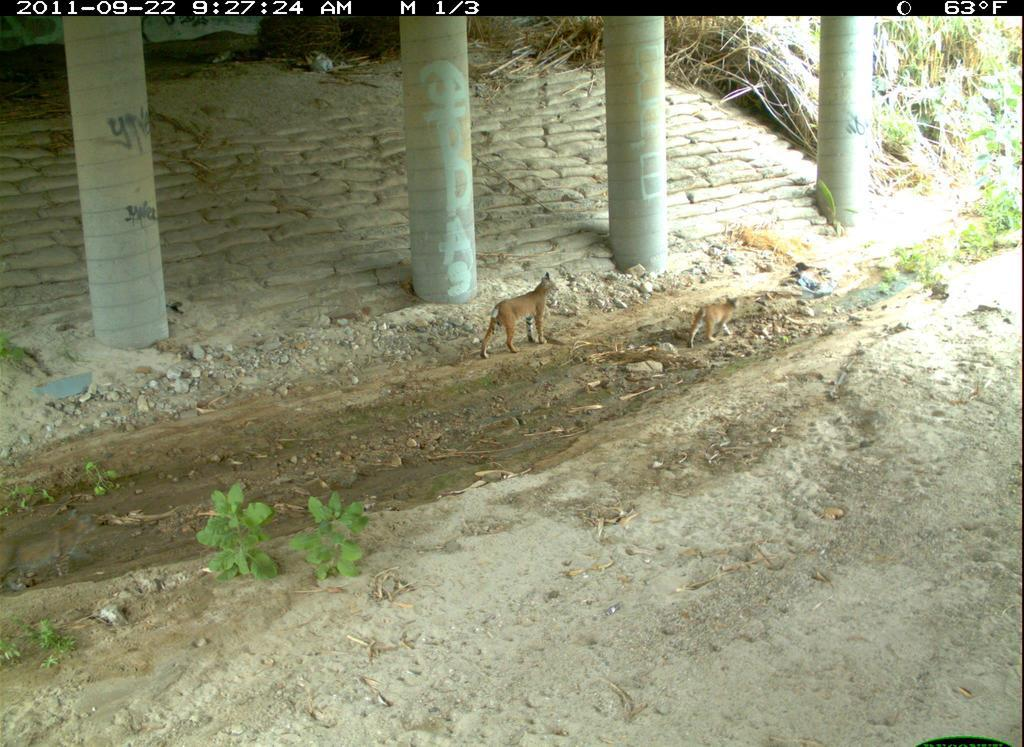bobcat: (944, 536, 1024, 731)
